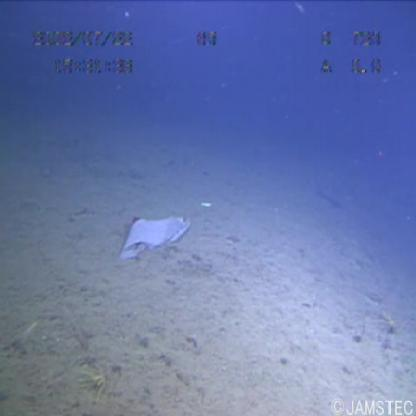Rác: (98, 204, 198, 262)
